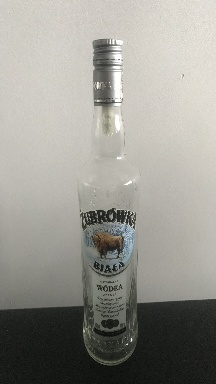butelka: (75, 35, 142, 368)
